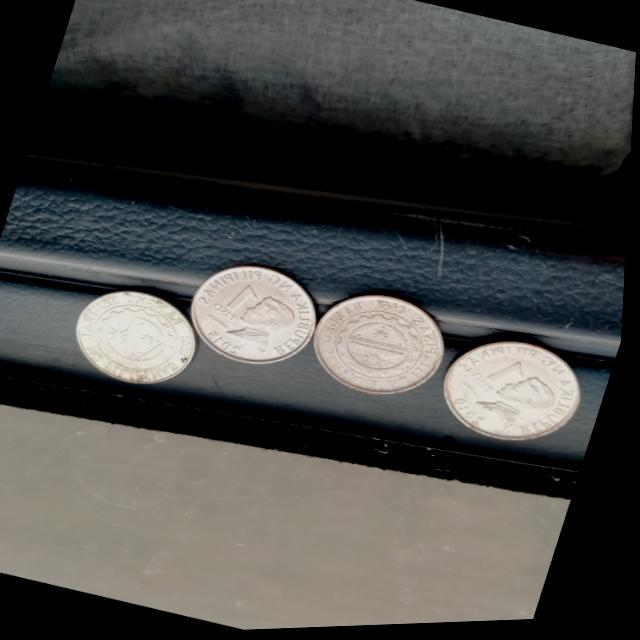1_Old_Back: (317, 299, 440, 398)
